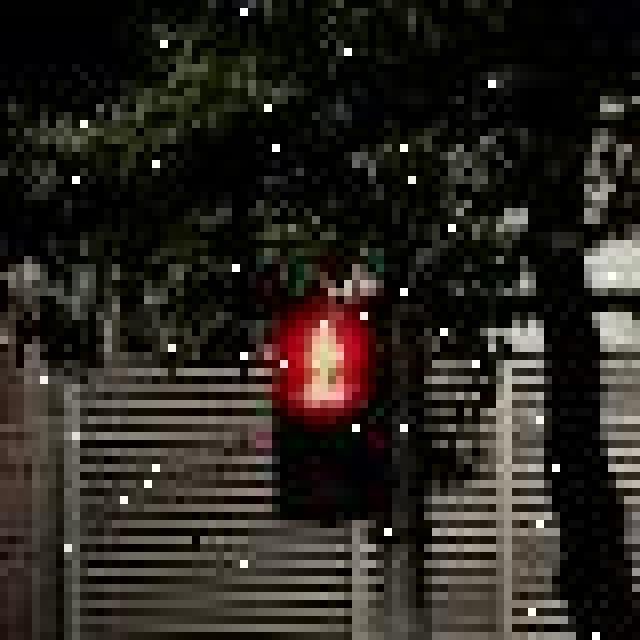redlight: (272, 295, 388, 526)
